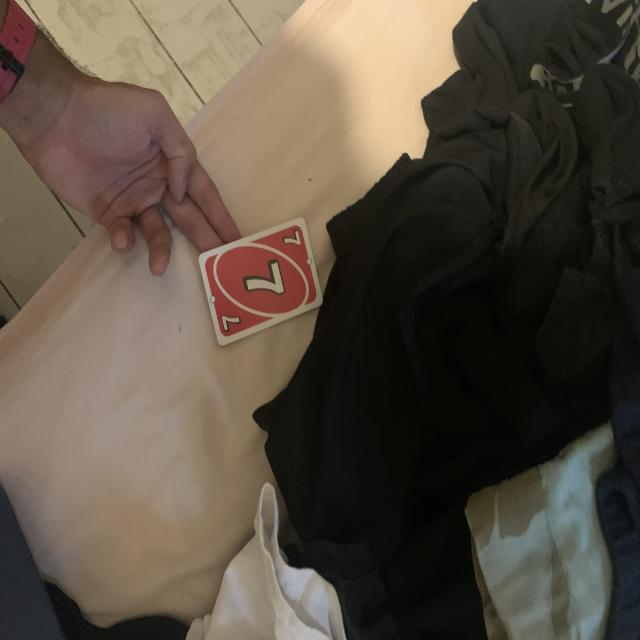lred-7: (279, 226, 304, 252)
